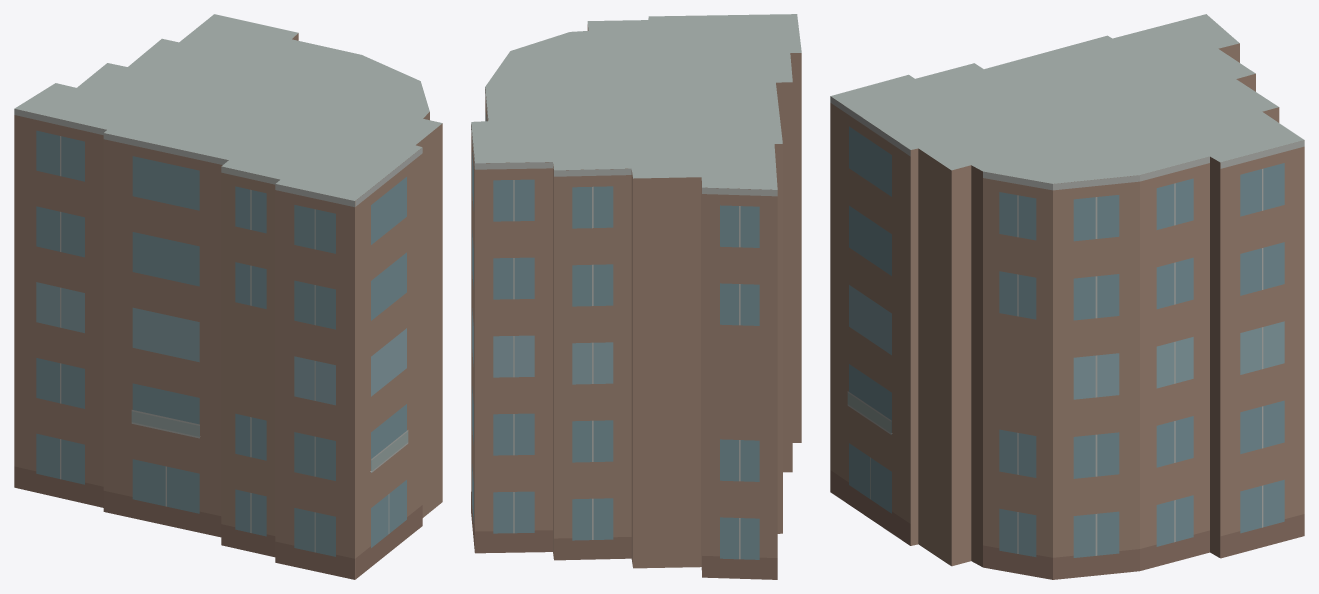
Rendered from survey-upis-33020120.glb.
3 views of the same model, side by side, from view 1: azimuth 30°, elevation 25°; view 2: azimuth 150°, elevation 25°; view 3: azimuth 270°, elevation 25° (orthographic). The views are drawn at different scales.
Visible parts, largest first — view 1: survey-upis-33020120.tmp; view 2: survey-upis-33020120.tmp; view 3: survey-upis-33020120.tmp.
Part boxes in pixels (x1,y1,x2,y2): survey-upis-33020120.tmp: (14,14,442,579); survey-upis-33020120.tmp: (471,14,801,579); survey-upis-33020120.tmp: (830,14,1304,579).
Size of the model in its own units: 13.72 by 14.9 by 16.18.
